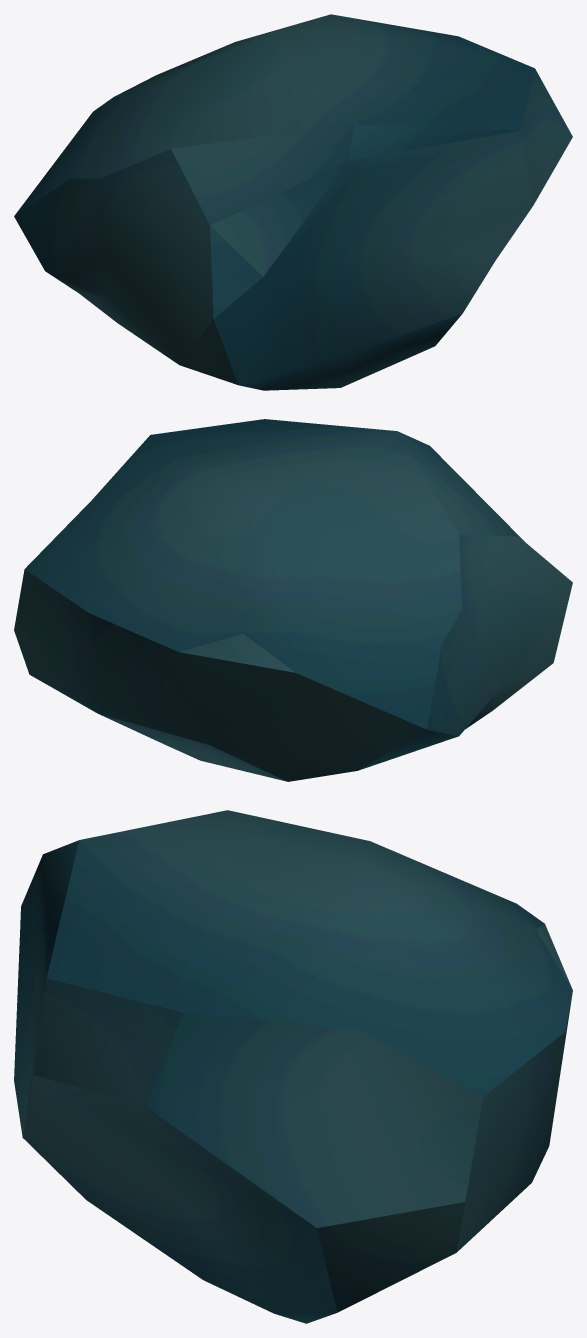
Rendered from Rock4.FBX.
The picture shows the model from 3 angles, top to bottom: view 1: azimuth 30°, elevation 25°; view 2: azimuth 150°, elevation 25°; view 3: azimuth 270°, elevation 25°; orthographic projection. The views are drawn at different scales.
Visible parts, largest first — view 1: Rock_4; view 2: Rock_4; view 3: Rock_4.
Part boxes in pixels (x1,y1,x2,y2): Rock_4: [14, 14, 572, 390]; Rock_4: [14, 419, 572, 781]; Rock_4: [14, 810, 572, 1323].
Size of the model in its own units: 113 by 71.8 by 93.02.
